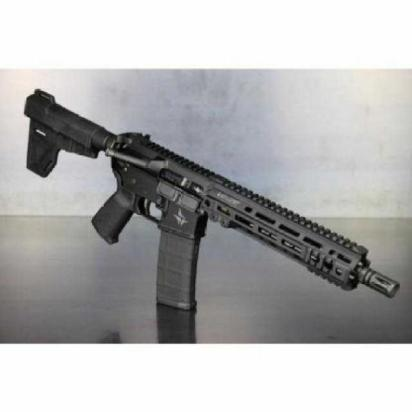Gun: (15, 76, 407, 360)
